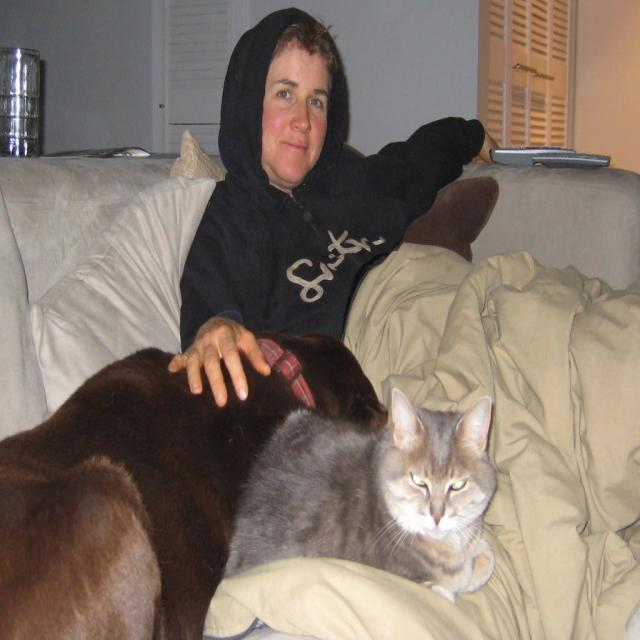Cat: (220, 388, 500, 602)
